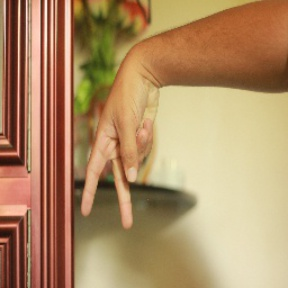Y: (77, 72, 155, 233)
